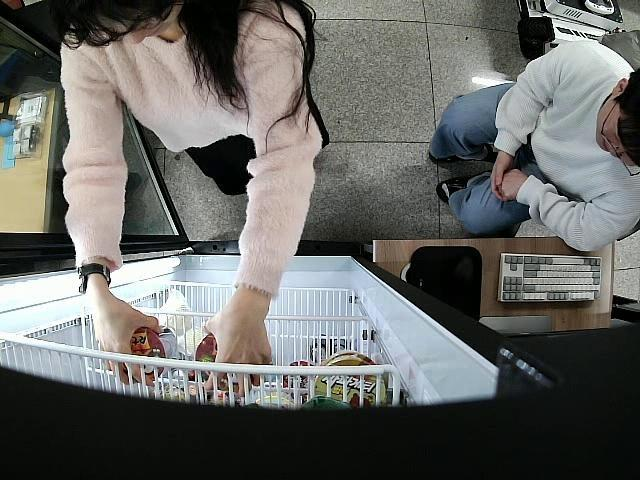06_nuguri_S: (112, 328, 177, 388), (197, 334, 254, 394)
